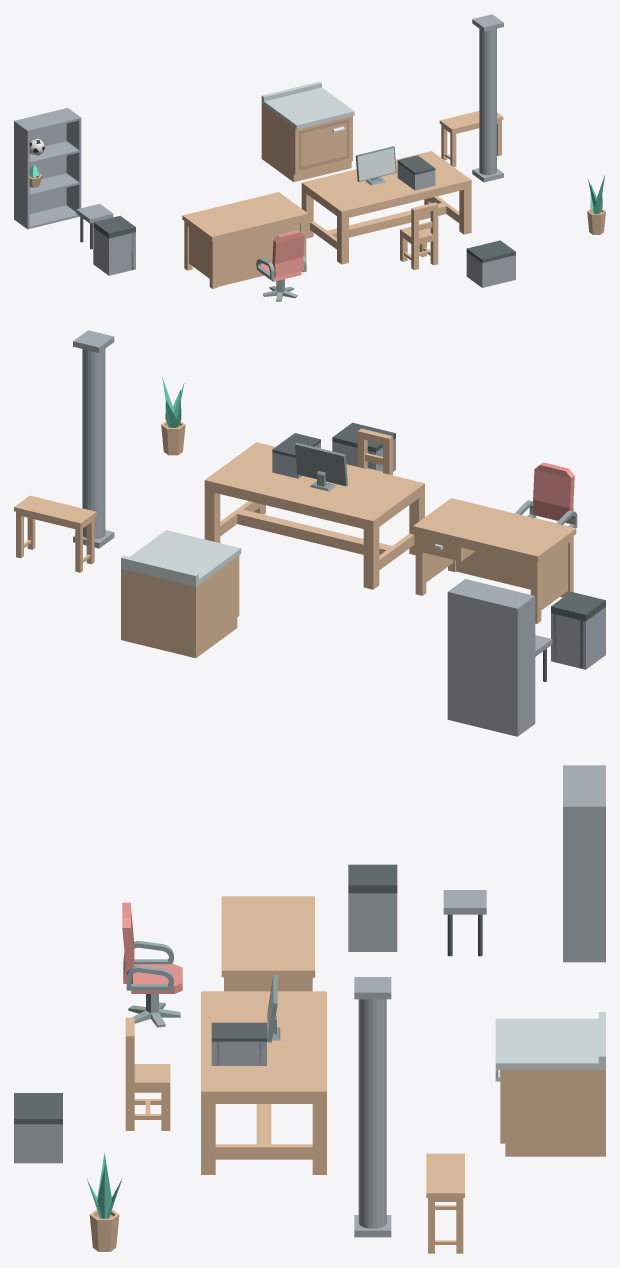
The picture shows the model from 3 angles, top to bottom: view 1: azimuth 30°, elevation 25°; view 2: azimuth 150°, elevation 25°; view 3: azimuth 270°, elevation 25°; orthographic projection. The views are drawn at different scales.
Visible parts, largest first — view 1: table_green__table(Clone), desk_blue__desk(Clone), cabinet_blue__kitchenCabinet(Clone), column_cyan__column_cyan shaft, cabinet_blue__door, shelf_orange__shelf_orange back, chair_cyan__chair(Clone), deskchair_black__chair, bin_gray__bin_gray shell, shelf_orange__shelf_orange side_l, sidetable_brown__sideTable(Clone), crate_red__crate_red shell (+12 smaller); view 2: table_green__table(Clone), cabinet_blue__kitchenCabinet(Clone), desk_blue__desk(Clone), shelf_orange__shelf_orange back, column_cyan__column_cyan shaft, sidetable_brown__sideTable(Clone), shelf_orange__shelf_orange side_l, bin_gray__bin_gray shell, deskchair_black__chair, monitor_gray__computerScreen(Clone), chair_cyan__chair(Clone), shelf_orange__shelf_orange board3 (+9 smaller); view 3: table_green__table(Clone), cabinet_blue__kitchenCabinet(Clone), desk_blue__desk(Clone), shelf_orange__shelf_orange side_r, column_cyan__column_cyan shaft, bin_gray__bin_gray shell, chair_cyan__chair(Clone), deskchair_black__chair, sidetable_brown__sideTable(Clone), crate_red__crate_red shell, shelf_orange__shelf_orange board3, crate_red__crate_red lid (+9 smaller).
Boxes of the visible parts, left/top/right/bottom form: table_green__table(Clone): left=301, top=151, right=471, bottom=264; desk_blue__desk(Clone): left=182, top=192, right=308, bottom=288; cabinet_blue__kitchenCabinet(Clone): left=261, top=81, right=354, bottom=182; column_cyan__column_cyan shaft: left=479, top=28, right=496, bottom=175; cabinet_blue__door: left=298, top=119, right=349, bottom=170; shelf_orange__shelf_orange back: left=16, top=108, right=66, bottom=213; chair_cyan__chair(Clone): left=400, top=202, right=438, bottom=269; deskchair_black__chair: left=256, top=230, right=306, bottom=281; bin_gray__bin_gray shell: left=93, top=227, right=135, bottom=275; shelf_orange__shelf_orange side_l: left=14, top=120, right=29, bottom=229; sidetable_brown__sideTable(Clone): left=439, top=111, right=503, bottom=166; crate_red__crate_red shell: left=466, top=252, right=515, bottom=287; table_green__table(Clone): left=204, top=442, right=424, bottom=589; cabinet_blue__kitchenCabinet(Clone): left=121, top=530, right=241, bottom=658; desk_blue__desk(Clone): left=413, top=498, right=576, bottom=623; shelf_orange__shelf_orange back: left=450, top=592, right=515, bottom=735; column_cyan__column_cyan shaft: left=82, top=349, right=105, bottom=539; sidetable_brown__sideTable(Clone): left=14, top=495, right=96, bottom=572; shelf_orange__shelf_orange side_l: left=515, top=595, right=535, bottom=736; bin_gray__bin_gray shell: left=551, top=607, right=605, bottom=669; deskchair_black__chair: left=515, top=462, right=577, bottom=528; monitor_gray__computerScreen(Clone): left=295, top=442, right=347, bottom=491; chair_cyan__chair(Clone): left=357, top=428, right=392, bottom=475; shelf_orange__shelf_orange board3: left=451, top=579, right=531, bottom=607; table_green__table(Clone): left=201, top=991, right=326, bottom=1174; cabinet_blue__kitchenCabinet(Clone): left=495, top=1012, right=605, bottom=1156; desk_blue__desk(Clone): left=221, top=896, right=314, bottom=991; shelf_orange__shelf_orange side_r: left=563, top=805, right=605, bottom=962; column_cyan__column_cyan shaft: left=358, top=999, right=386, bottom=1228; bin_gray__bin_gray shell: left=348, top=893, right=397, bottom=951; chair_cyan__chair(Clone): left=125, top=1017, right=170, bottom=1130; deskchair_black__chair: left=122, top=902, right=182, bottom=993; sidetable_brown__sideTable(Clone): left=426, top=1153, right=464, bottom=1253; crate_red__crate_red shell: left=14, top=1124, right=62, bottom=1163; shelf_orange__shelf_orange board3: left=563, top=766, right=603, bottom=805; crate_red__crate_red lid: left=14, top=1093, right=62, bottom=1124.
Bounding box in the file's own units: 6.43 × 2.2 × 4.82.
